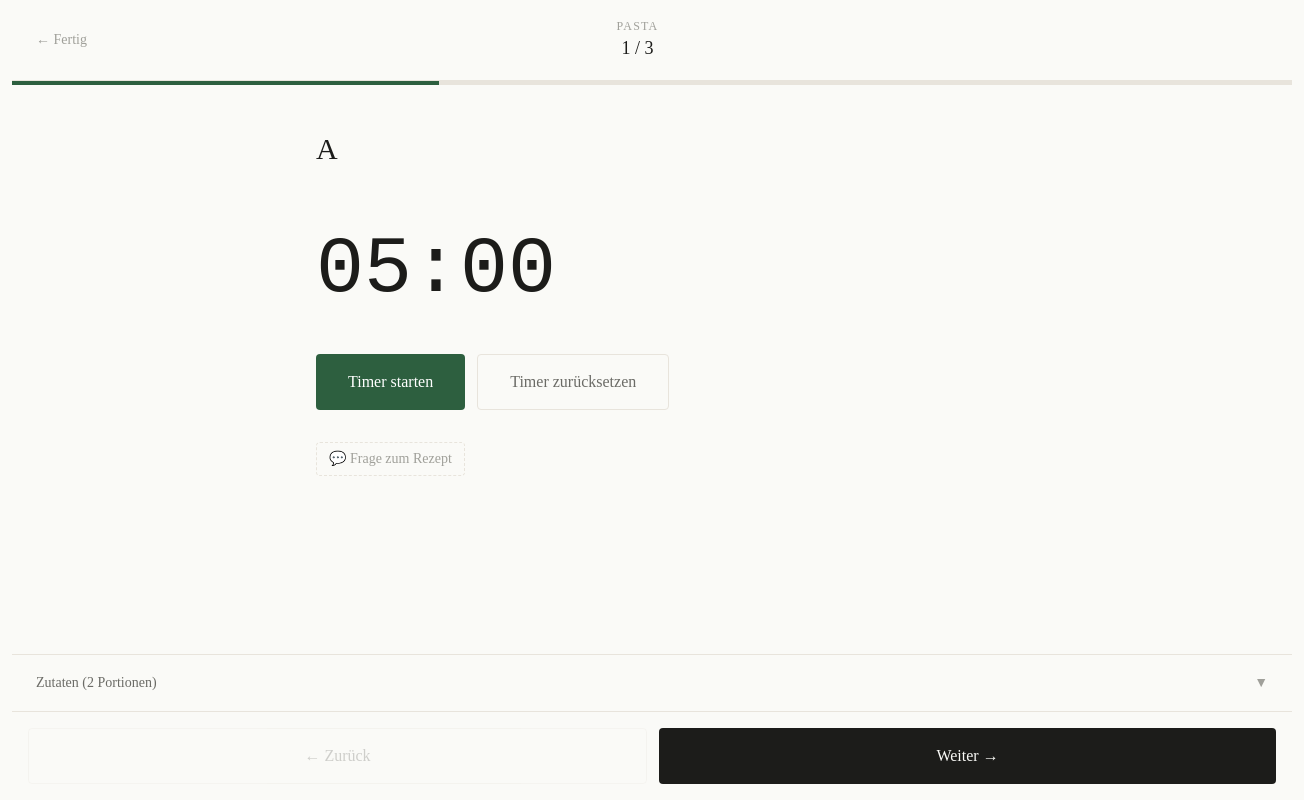
Scenario: CookMode — persistent timer › hides another step's own timer while a timer is running (single timer)
Click the button "Timer starten" at (391, 382), box top-left (316, 354), bottom-right (465, 410)
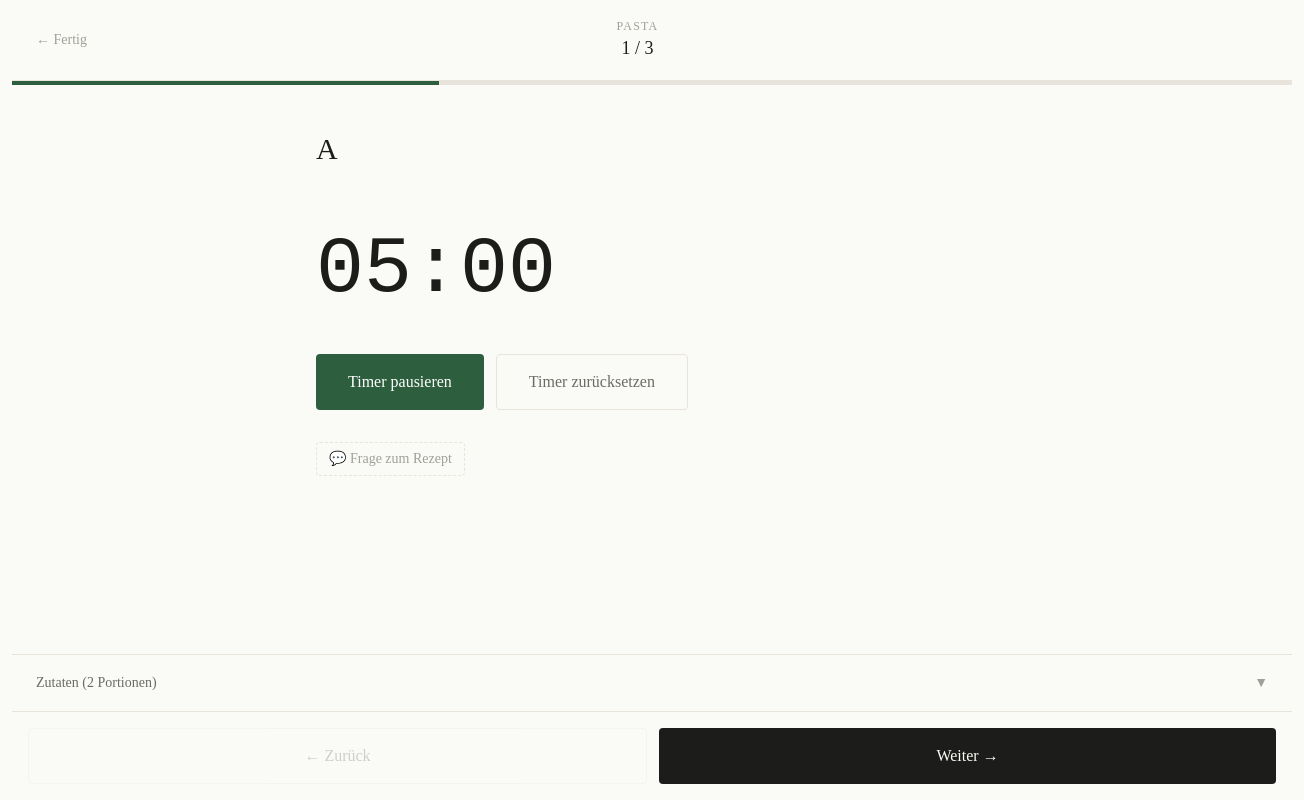
Click the button "Weiter →" at (968, 756), box top-left (659, 728), bottom-right (1276, 784)
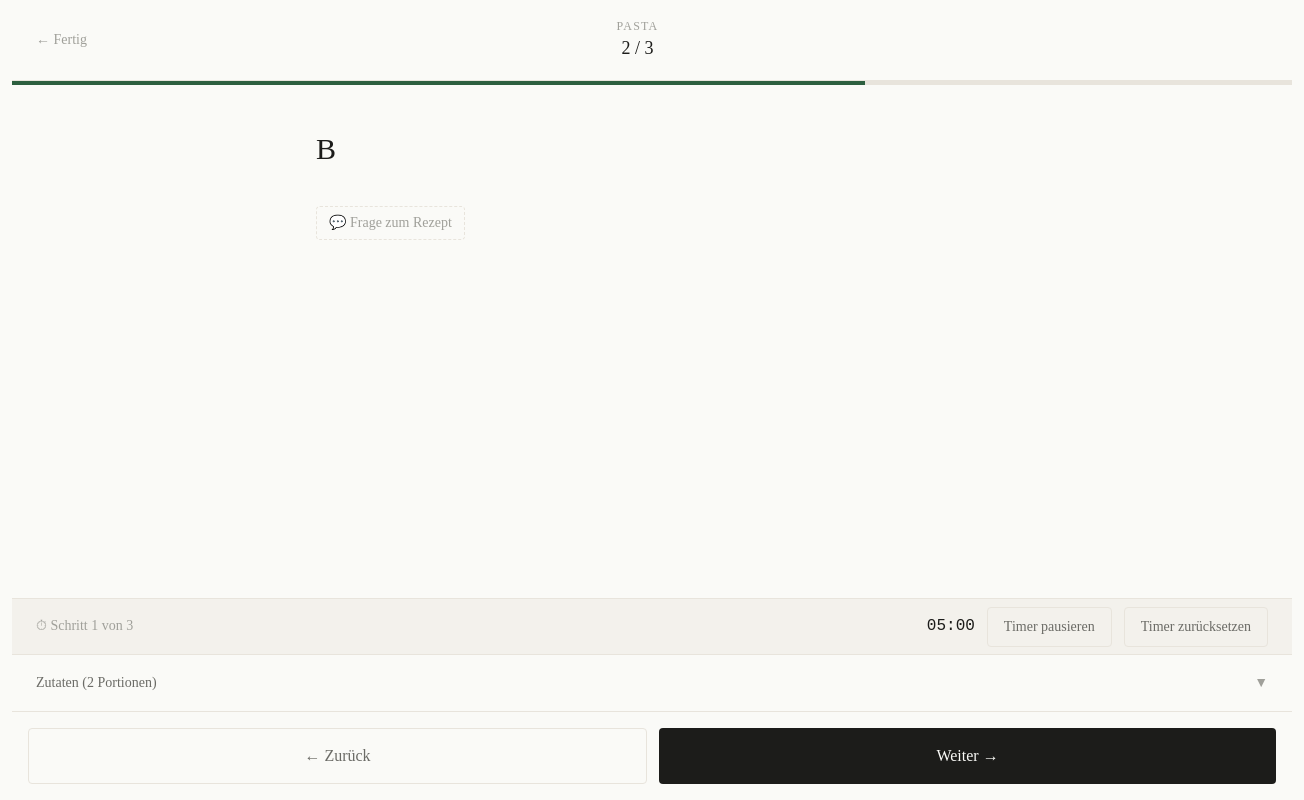
Expected: the text "05:00" is shown, top-left (927, 614), bottom-right (975, 639)
Expected: the text "⏱ Schritt 1 von 3" is shown, top-left (36, 616), bottom-right (133, 636)
